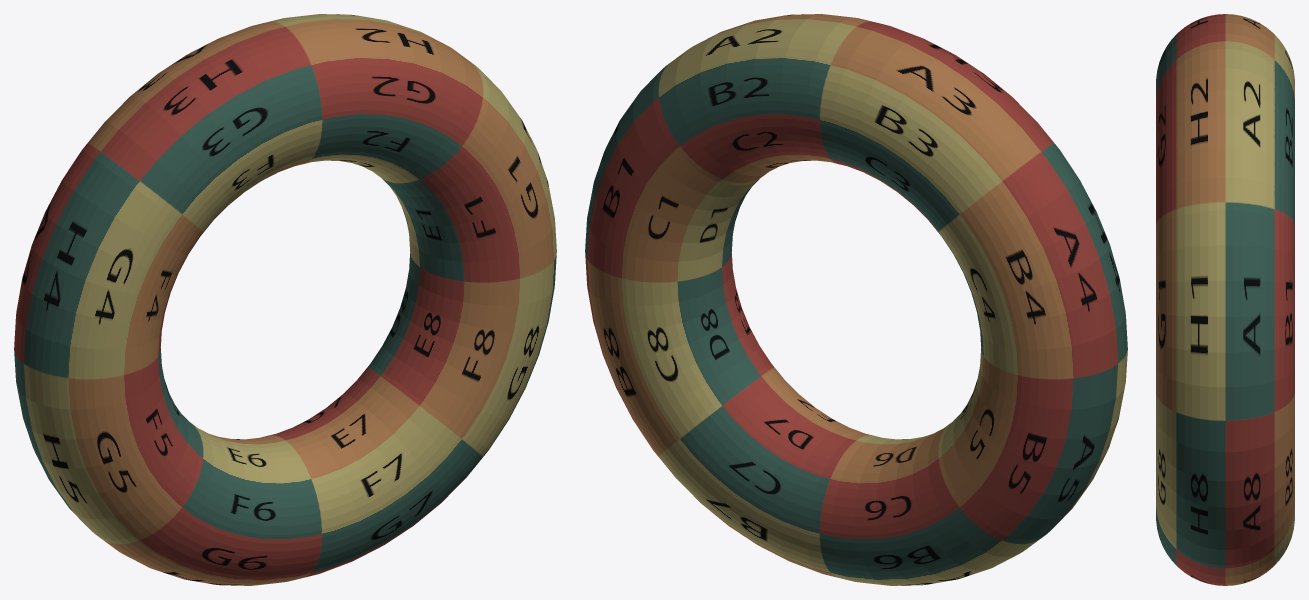
File: texture_torus_R28_r27.glb
3 renders of one model, left to right at view 1: azimuth 30°, elevation 25°; view 2: azimuth 150°, elevation 25°; view 3: azimuth 270°, elevation 25°, orthographic. The views are drawn at different scales.
Parts seen in each view (by area): view 1: world; view 2: world; view 3: world.
Boxes of the visible parts, box(x1,y1,x2,y2) form: world: box(14, 14, 556, 585); world: box(585, 14, 1127, 585); world: box(1156, 14, 1294, 585).
Bounding box in the file's own units: 37.87 × 37.79 × 9.18.
Materials: 1 (1 with a texture image).
